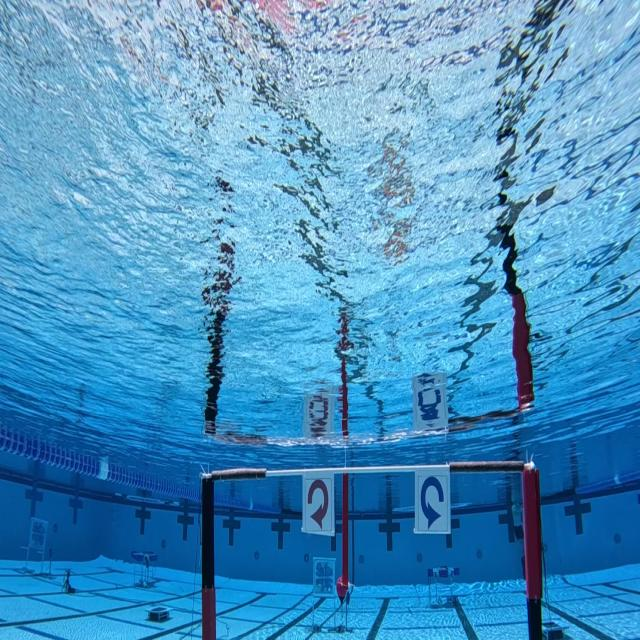blue_side: (414, 467, 452, 537)
red_side: (301, 472, 337, 539)
